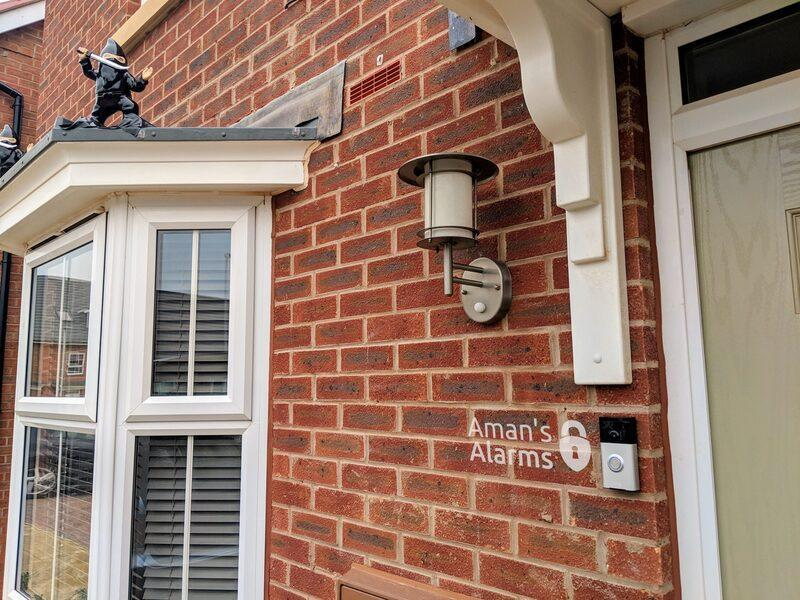doorbell: (586, 409, 647, 500)
